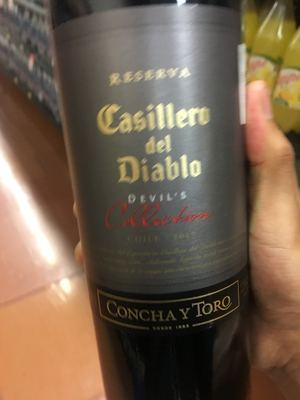casillero del diablo devils collection rojo: (48, 3, 258, 396)
